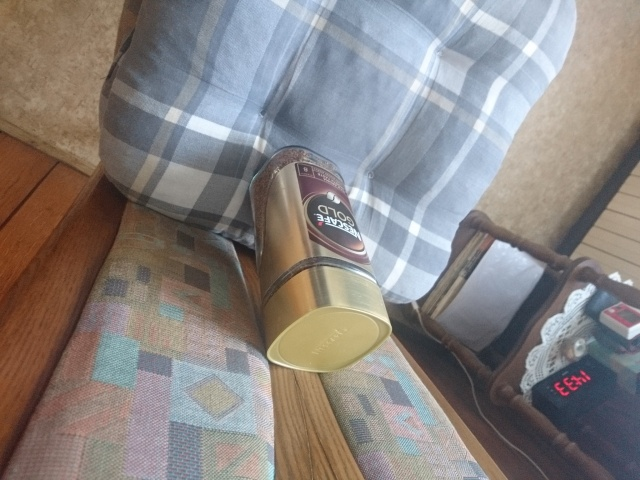Nescafe Gold 225g: (245, 143, 396, 376)
